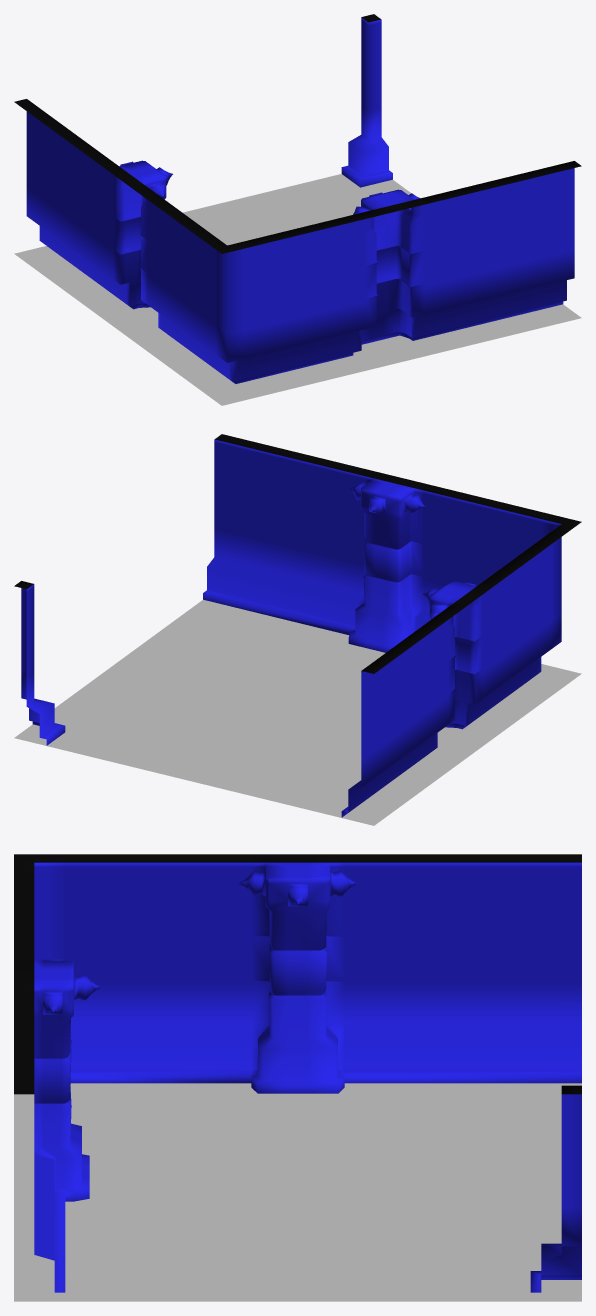
The model's file is S_Cell_3.fbx.
3 renders of one model, top to bottom at view 1: azimuth 30°, elevation 25°; view 2: azimuth 150°, elevation 25°; view 3: azimuth 270°, elevation 25°, orthographic. The views are drawn at different scales.
Parts seen in each view (by area): view 1: Wall_L_low, S_Ground, Wall_Pillar_low.002; view 2: Wall_L_low, S_Ground, Wall_Pillar_low.002; view 3: Wall_L_low, S_Ground, Wall_Pillar_low.002.
Boxes of the visible parts, box(x1,y1,x2,y2) form: Wall_L_low: box(14, 99, 581, 383); S_Ground: box(14, 174, 581, 405); Wall_Pillar_low.002: box(341, 14, 392, 187); Wall_L_low: box(203, 434, 581, 817); S_Ground: box(14, 599, 581, 825); Wall_Pillar_low.002: box(14, 581, 65, 745); Wall_L_low: box(14, 854, 581, 1292); S_Ground: box(14, 1083, 581, 1301); Wall_Pillar_low.002: box(530, 1085, 581, 1292).
Size of the model in its own units: 20 by 8.06 by 20.
